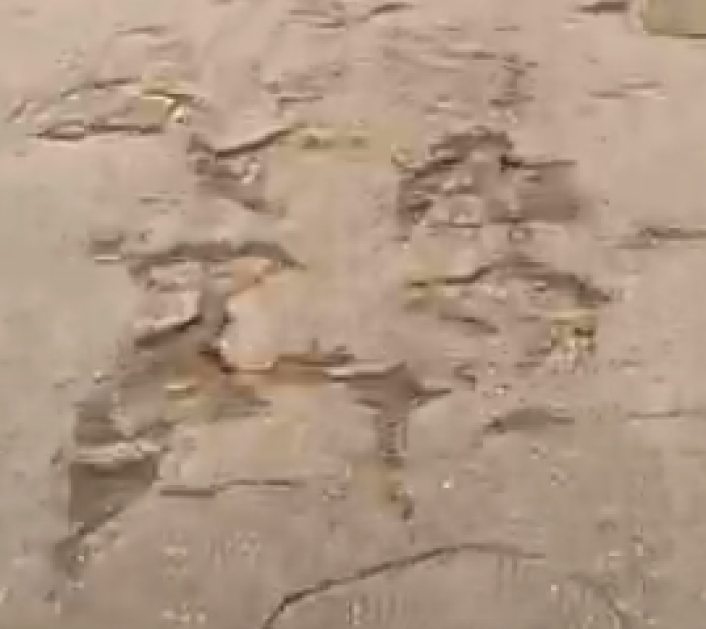Retak Buaya: (64, 334, 435, 543), (83, 142, 318, 324), (279, 1, 549, 147), (239, 537, 650, 629), (399, 259, 631, 393), (368, 120, 600, 249), (14, 66, 304, 160), (463, 391, 600, 452), (82, 11, 212, 61), (561, 1, 706, 45), (1, 1, 52, 18)
